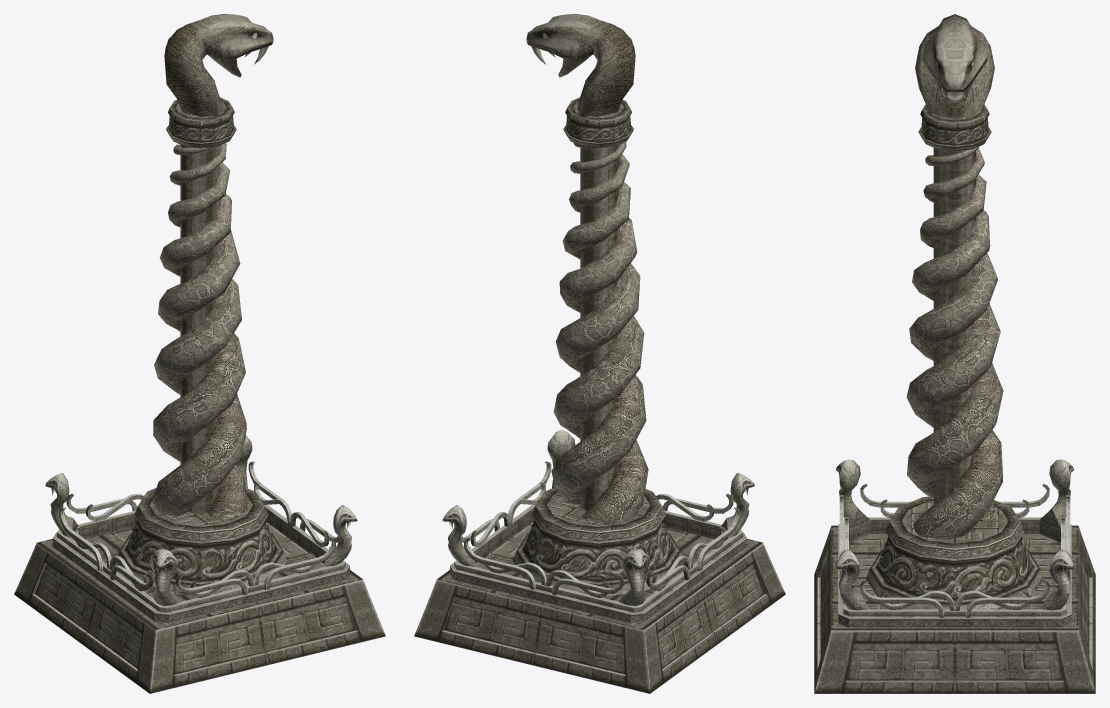
File: gls_a_snakestatue_03.fbx
3 views of the same model, side by side, from view 1: azimuth 30°, elevation 25°; view 2: azimuth 150°, elevation 25°; view 3: azimuth 270°, elevation 25° (orthographic). The views are drawn at different scales.
Visible parts, largest first — view 1: gls_A_SnakeStatue_03; view 2: gls_A_SnakeStatue_03; view 3: gls_A_SnakeStatue_03.
Part boxes in pixels (box(x1,y1,x2,y2)): gls_A_SnakeStatue_03: box(14, 14, 385, 693); gls_A_SnakeStatue_03: box(414, 14, 785, 693); gls_A_SnakeStatue_03: box(814, 14, 1095, 693).
Bounding box in the file's own units: 10.64 × 25.58 × 10.61.
